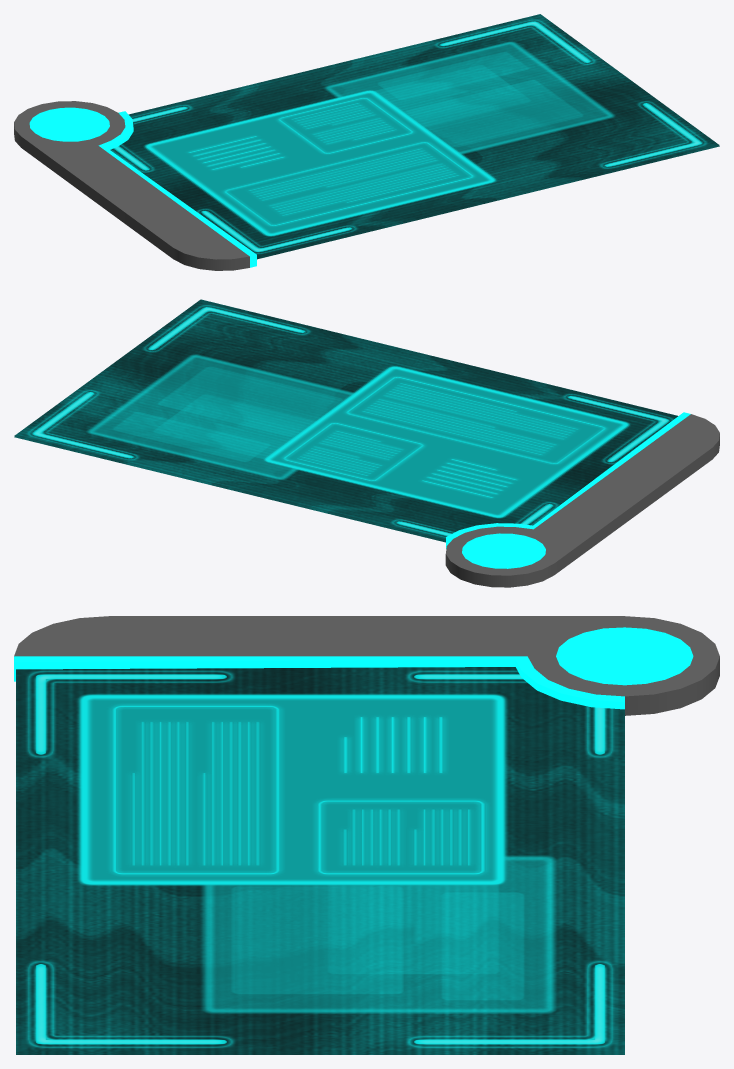
Rendered from Datapad.fbx.
The picture shows the model from 3 angles, top to bottom: view 1: azimuth 30°, elevation 25°; view 2: azimuth 150°, elevation 25°; view 3: azimuth 270°, elevation 25°; orthographic projection. The views are drawn at different scales.
Visible parts, largest first — view 1: Data_Pad; view 2: Data_Pad; view 3: Data_Pad.
Part boxes in pixels (<box>): Data_Pad: <box>14,14,719,270</box>; Data_Pad: <box>14,299,719,587</box>; Data_Pad: <box>14,616,719,1054</box>.
Bounding box in the file's own units: 154 × 3.24 × 107.
